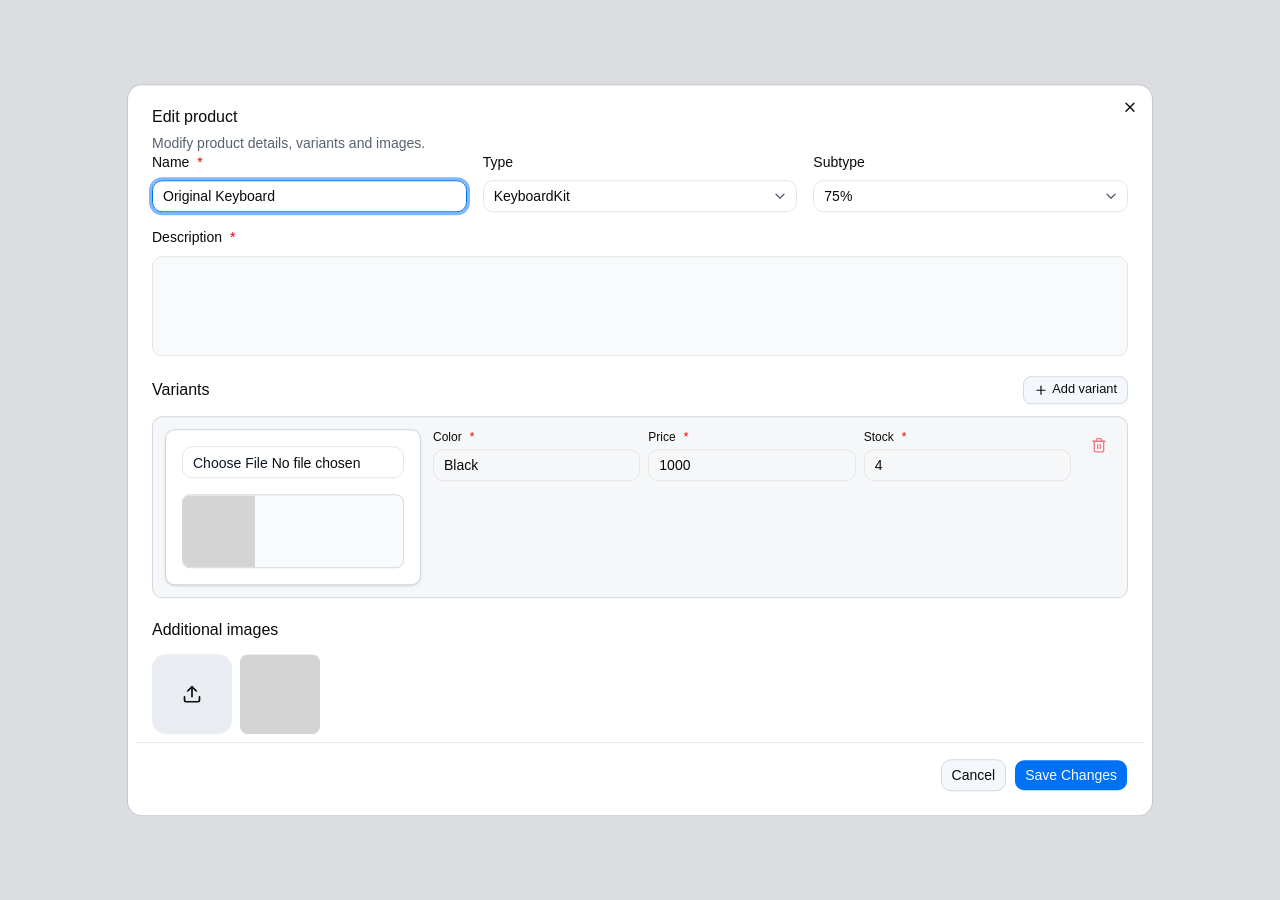
Test: EditProductFormDialog › shows description validation errors returned by the editor
The image size is (1280, 900).
Click the field with placeholder "Product name" below "Name". click: (309, 196)
box: [152,180,467,212]
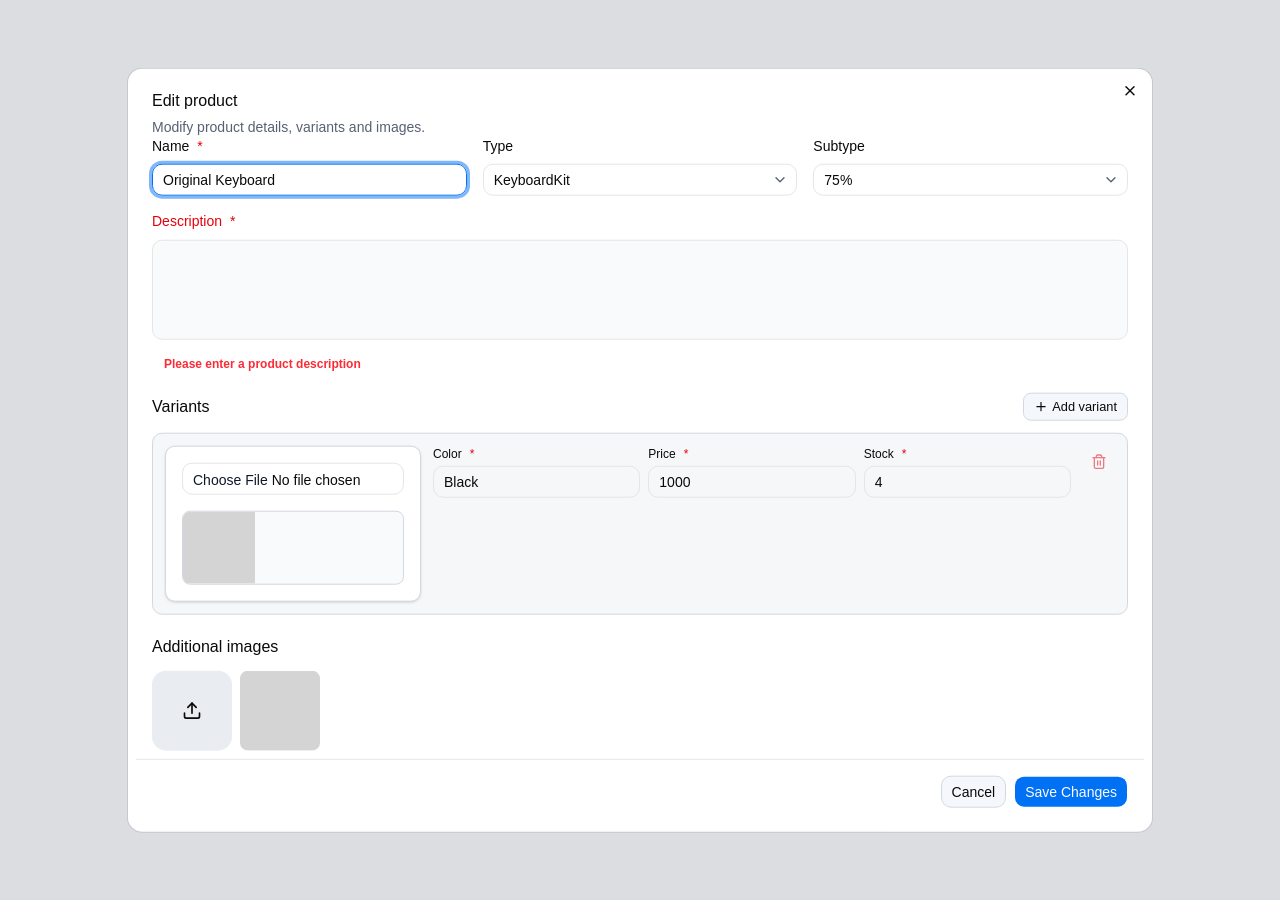
Result: the text "Please enter a product description" is shown at [164,356,361,370]
